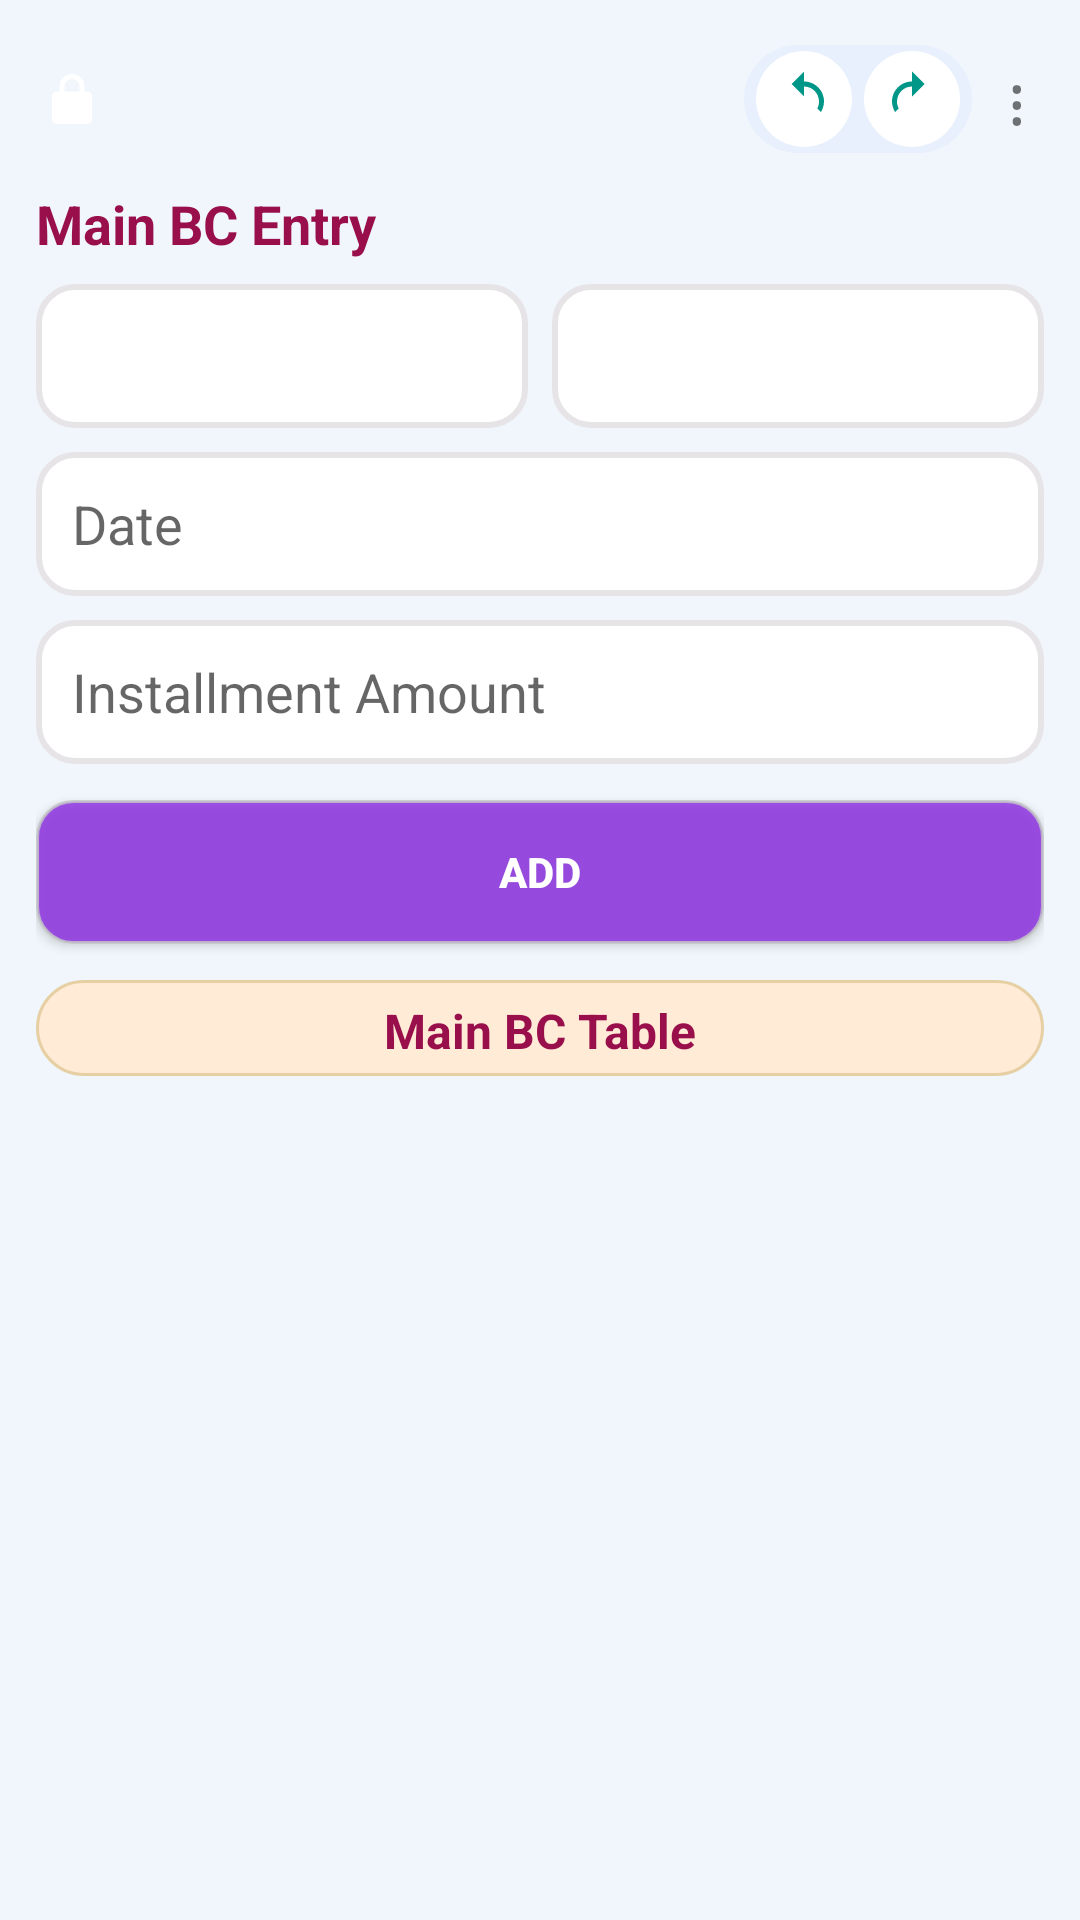

Named icons in this screenshot (1080 × 1920) and their centers, (x=x, y=y):
Redo: (x=912, y=99)
Undo: (x=804, y=99)
